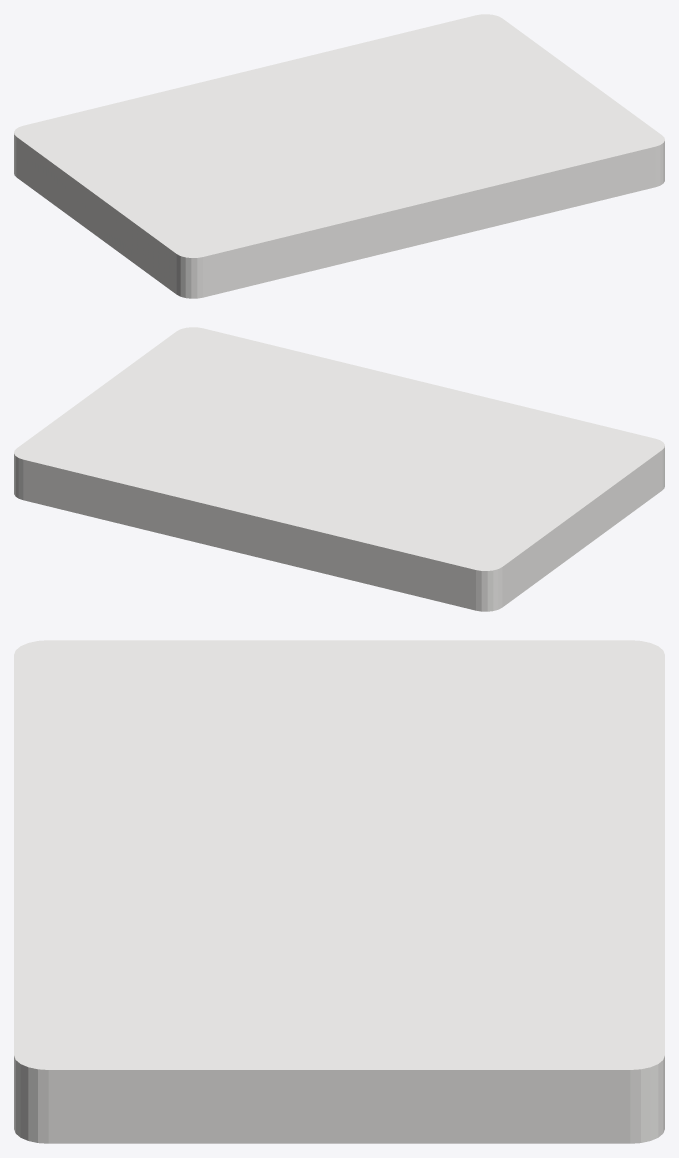
Rendered from wrs_fcsc_pointcard.dae.
The picture shows the model from 3 angles, top to bottom: view 1: azimuth 30°, elevation 25°; view 2: azimuth 150°, elevation 25°; view 3: azimuth 270°, elevation 25°; orthographic projection. The views are drawn at different scales.
Visible parts, largest first — view 1: Cube_001; view 2: Cube_001; view 3: Cube_001.
Boxes of the visible parts, x1,y1,x2,y2 form: Cube_001: (14,14,664,298); Cube_001: (14,327,664,611); Cube_001: (14,640,664,1143).
Size of the model in its own units: 0.25 by 0.16 by 0.02.
1 material, 1 textured.
